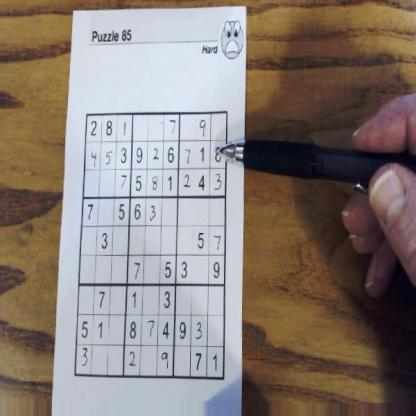sudoku: (72, 107, 231, 384)
